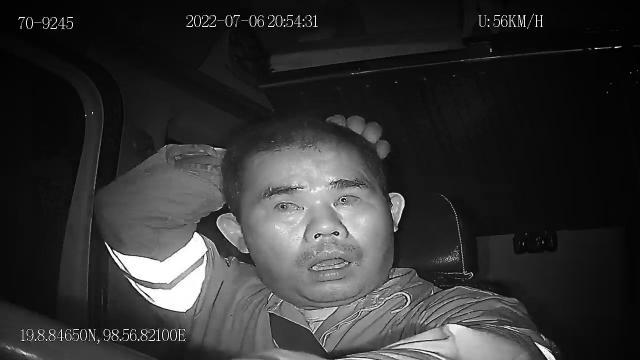SafeDriving: (266, 190, 312, 218), (327, 184, 369, 212)
Seatbelt: (268, 310, 330, 360)
